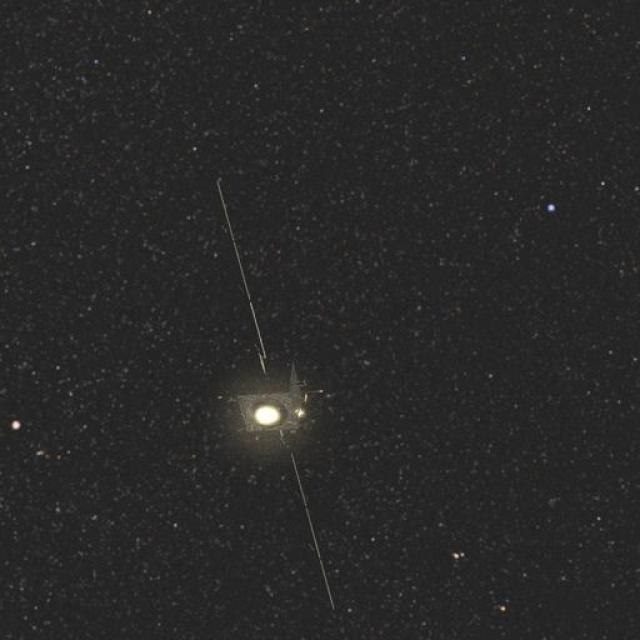smart_1: (167, 172, 393, 640)
